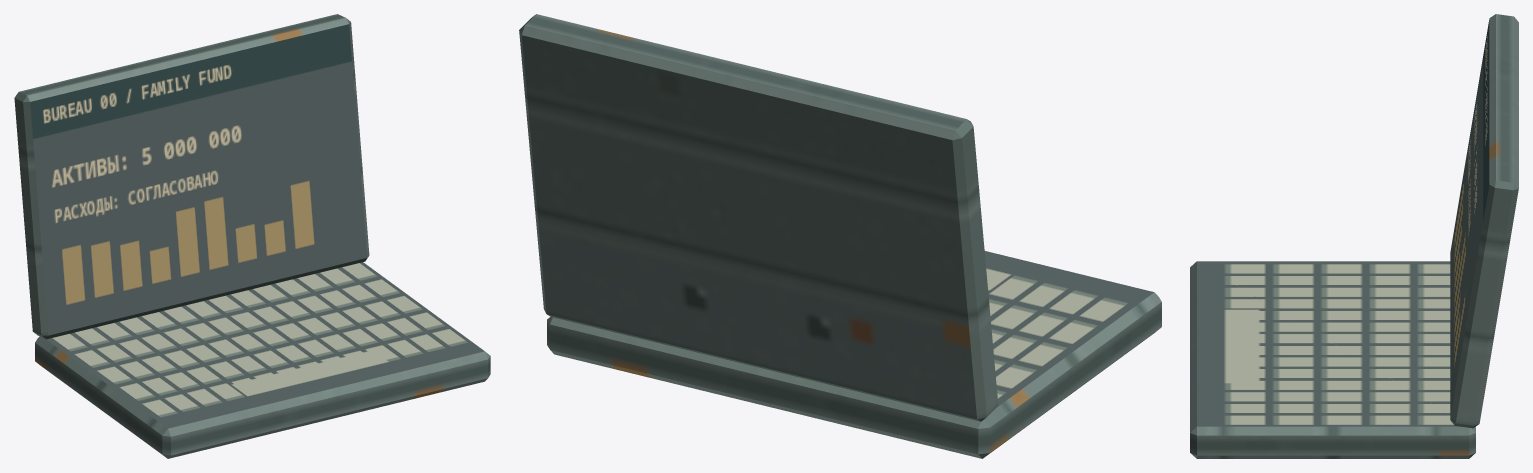
File: MD_118_Laptop.fbx
The picture shows the model from 3 angles, left to right: view 1: azimuth 30°, elevation 25°; view 2: azimuth 150°, elevation 25°; view 3: azimuth 270°, elevation 25°; orthographic projection. The views are drawn at different scales.
Parts seen in each view (by area): view 1: MD_118_Laptop_hinged_screen, MD_118_Laptop_laptop_base; view 2: MD_118_Laptop_hinged_screen, MD_118_Laptop_laptop_base; view 3: MD_118_Laptop_laptop_base, MD_118_Laptop_hinged_screen.
Part boxes in pixels (x1,y1,x2,y2): MD_118_Laptop_hinged_screen: (14, 14, 369, 339); MD_118_Laptop_laptop_base: (35, 262, 490, 458); MD_118_Laptop_hinged_screen: (519, 14, 998, 421); MD_118_Laptop_laptop_base: (547, 251, 1161, 458); MD_118_Laptop_laptop_base: (1190, 261, 1475, 458); MD_118_Laptop_hinged_screen: (1450, 14, 1518, 428).
Size of the model in its own units: 0.34 by 0.2586 by 0.276.
Materials: 3 (3 with a texture image).
